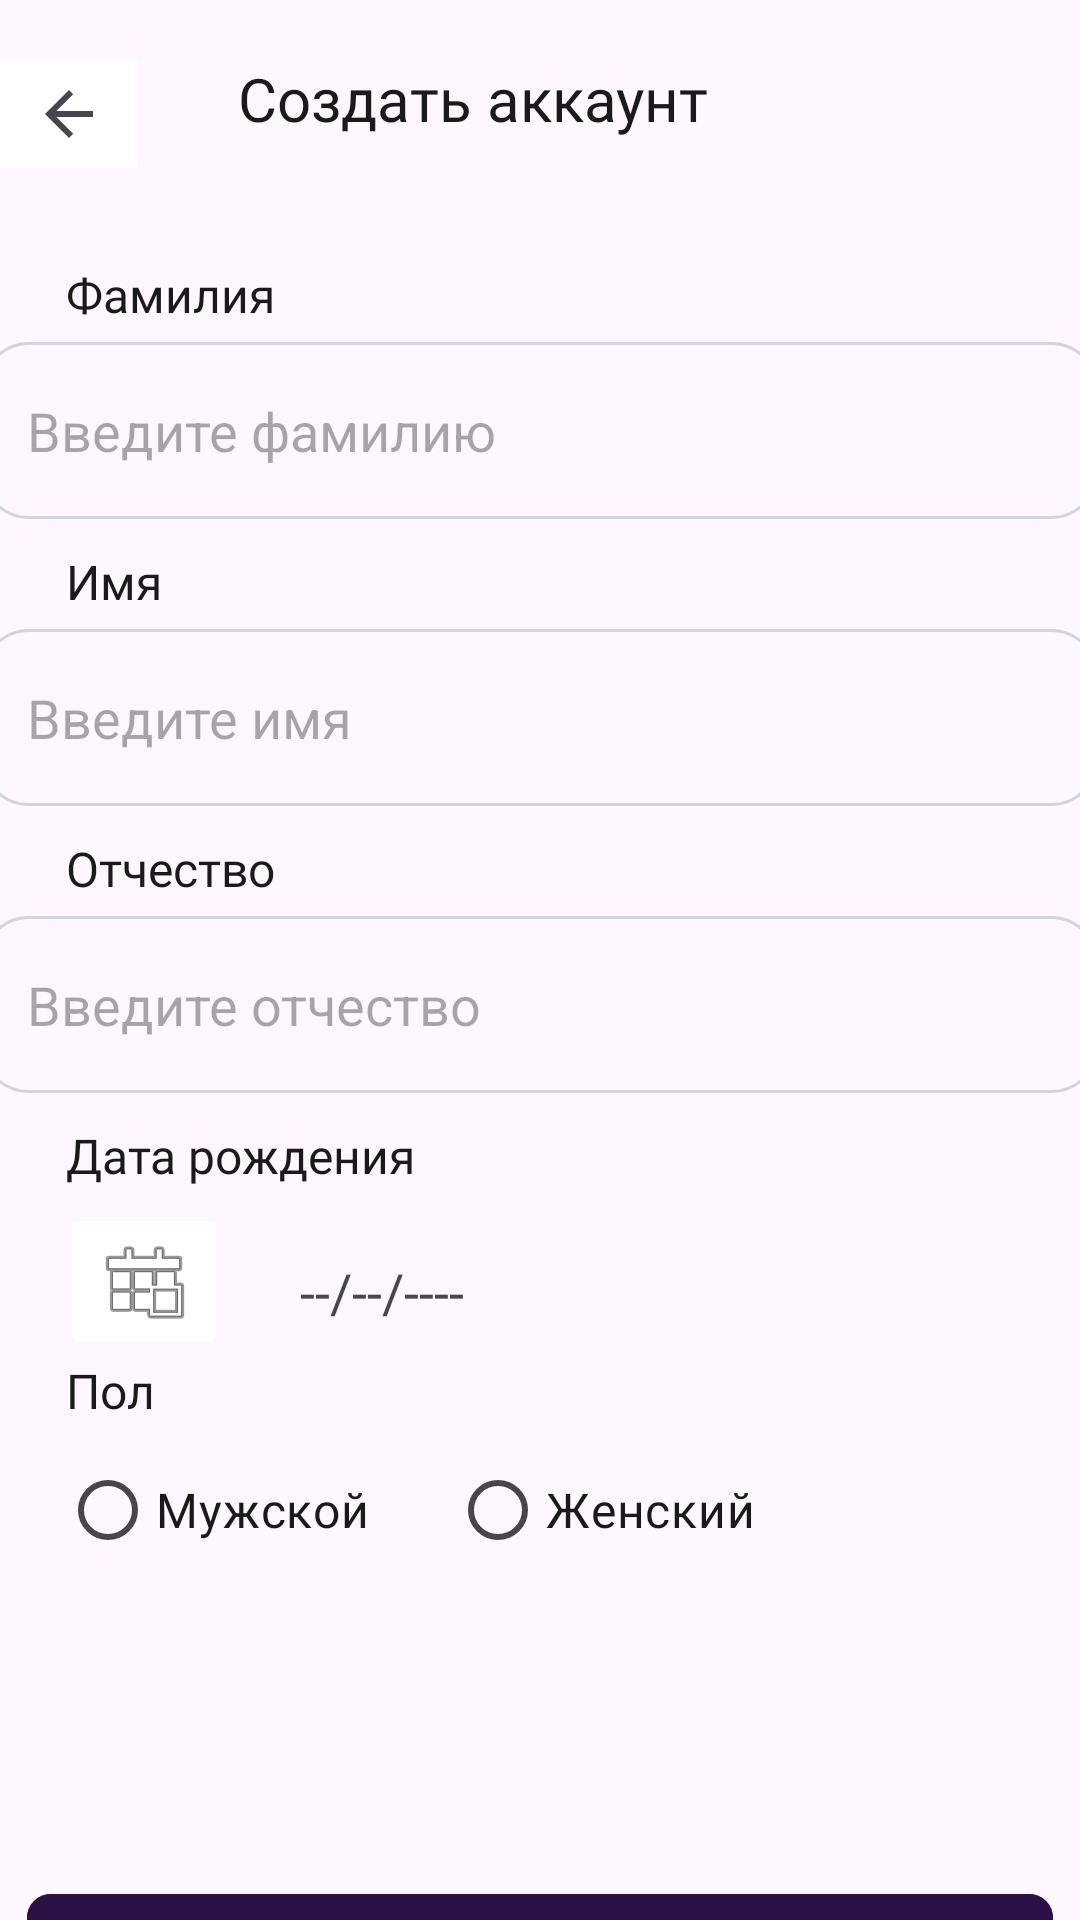

Icons on this 1080px×1920px Android screen, each with its box as (x1, y1, x2, y2):
today: (106, 1246, 184, 1319)
